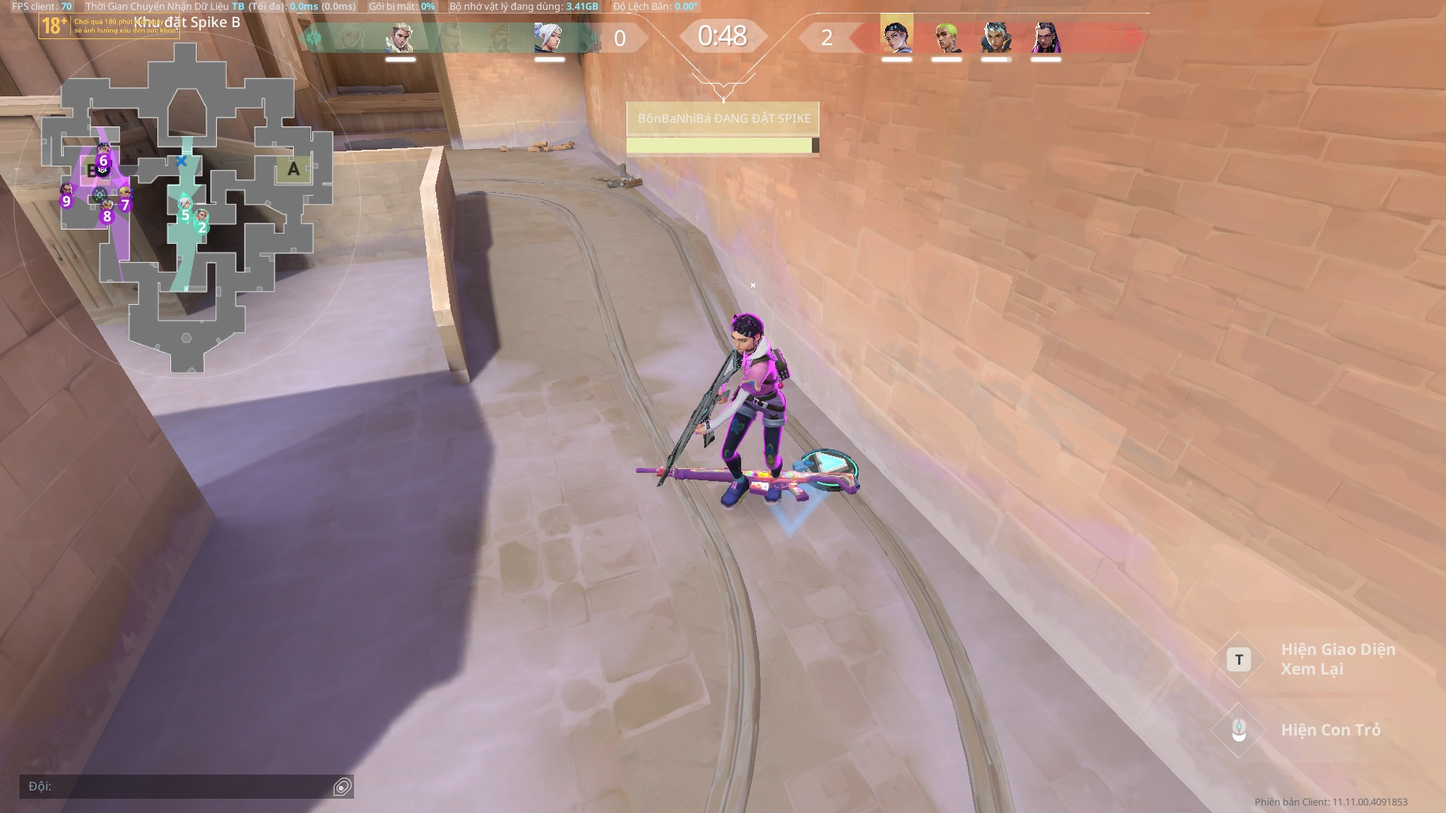body: (732, 339, 791, 408)
head: (726, 309, 763, 350)
